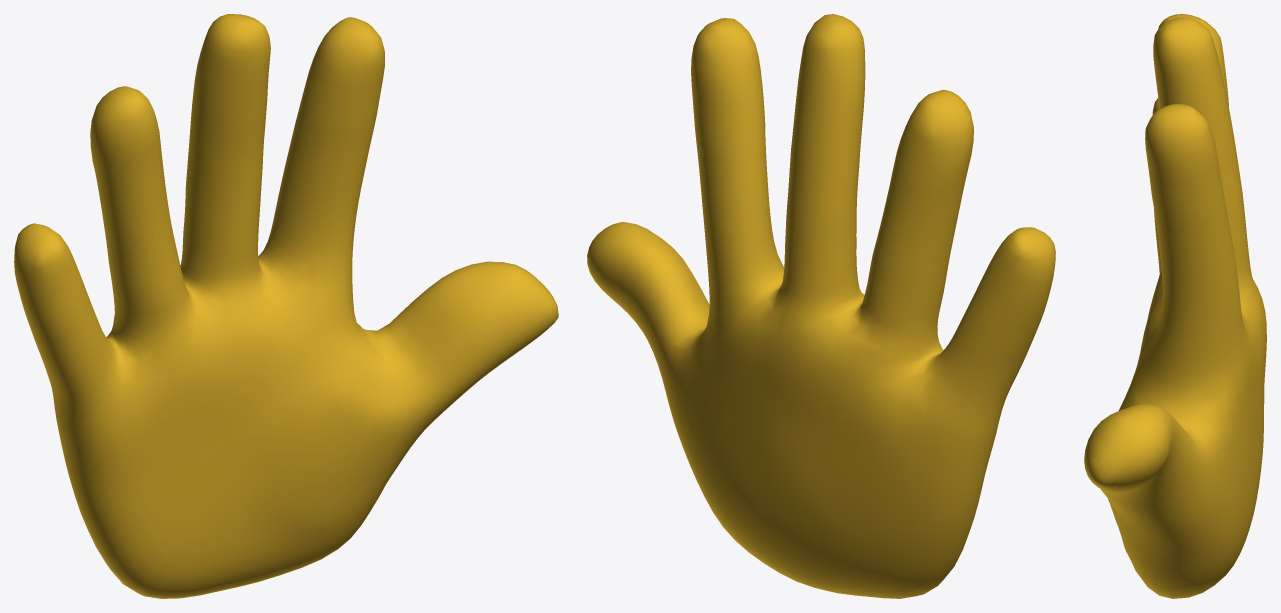
File: Fingers Splayed.glb
The picture shows the model from 3 angles, left to right: view 1: azimuth 30°, elevation 25°; view 2: azimuth 150°, elevation 25°; view 3: azimuth 270°, elevation 25°; orthographic projection. The views are drawn at different scales.
Parts seen in each view (by area): view 1: Fingers Splayed004; view 2: Fingers Splayed004; view 3: Fingers Splayed004.
Boxes of the visible parts, x1,y1,x2,y2 form: Fingers Splayed004: (14, 14, 558, 598); Fingers Splayed004: (587, 14, 1055, 598); Fingers Splayed004: (1084, 14, 1266, 598).
Bounding box in the file's own units: 0.3638 × 0.397 × 0.1184.
